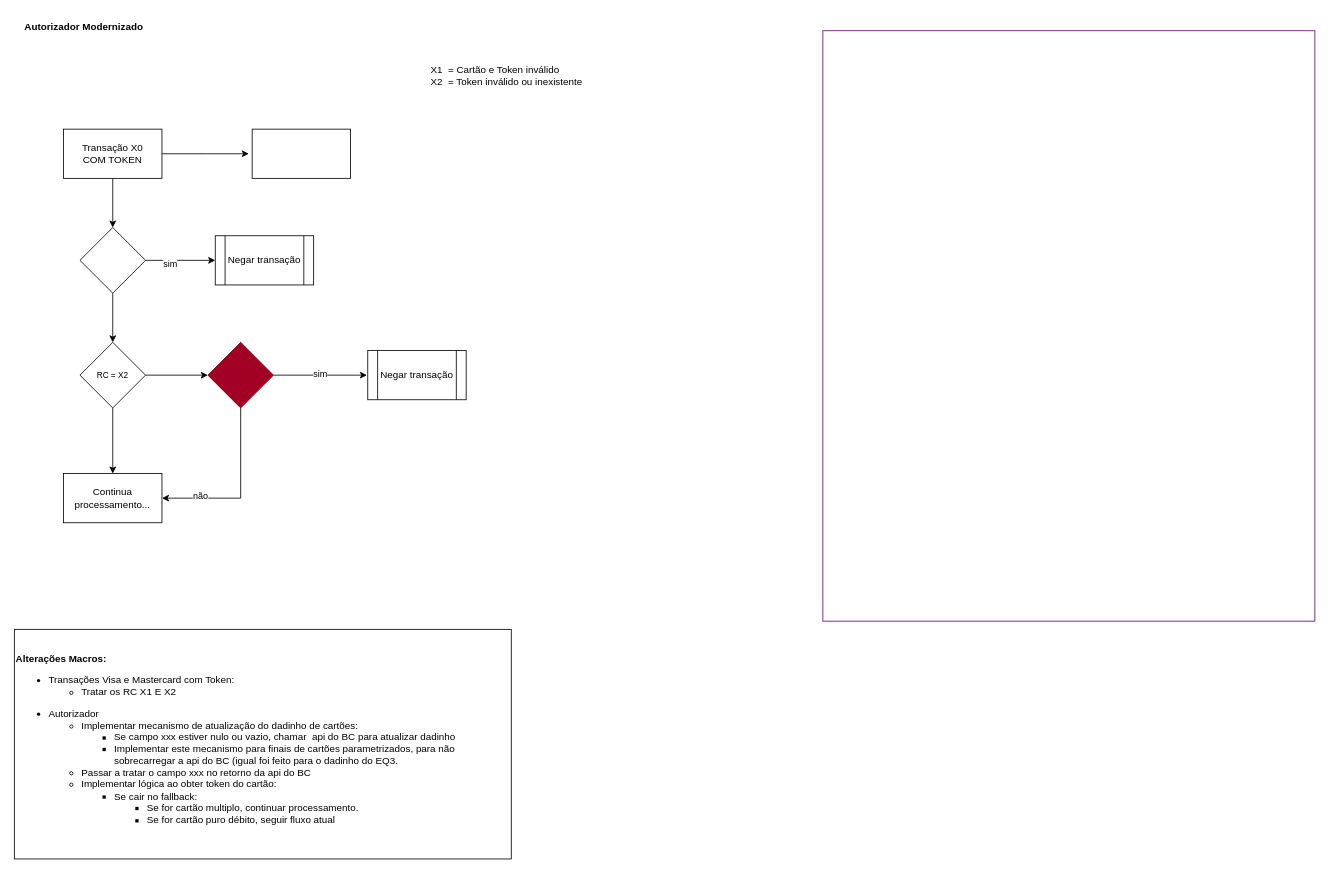
Some shapes in this 1329 by 873 pixel diagram are drawn without their labels. The box of each missing label's shape, as (x1, y1, x2, y2) in pixels:
BCTK: (251, 128, 351, 178)
Cartão Puro Débito ?: (207, 342, 273, 408)
RC = X1: (79, 227, 146, 293)
